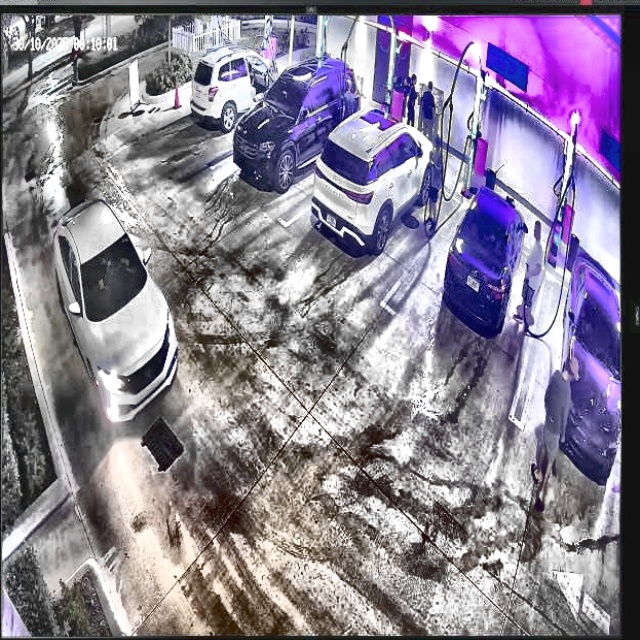Car: (50, 196, 178, 420), (313, 109, 434, 258), (233, 58, 361, 186), (443, 184, 526, 335)
